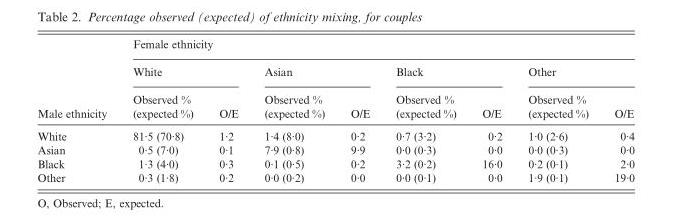table: (36, 37, 633, 183)
table column: (250, 37, 337, 183), (119, 37, 205, 183), (382, 37, 468, 183), (514, 37, 600, 183), (36, 37, 119, 183), (468, 37, 514, 183), (205, 37, 250, 183), (337, 37, 382, 183), (600, 37, 633, 183)
table column header: (36, 37, 633, 124)
table row: (36, 85, 633, 124), (36, 57, 633, 85), (36, 37, 633, 57), (36, 124, 633, 142), (36, 142, 633, 156), (36, 156, 633, 170), (36, 170, 633, 183)
table spanning cell: (119, 37, 633, 57), (36, 37, 119, 124), (250, 57, 382, 85), (382, 57, 514, 85), (119, 57, 250, 85), (514, 57, 633, 85)
